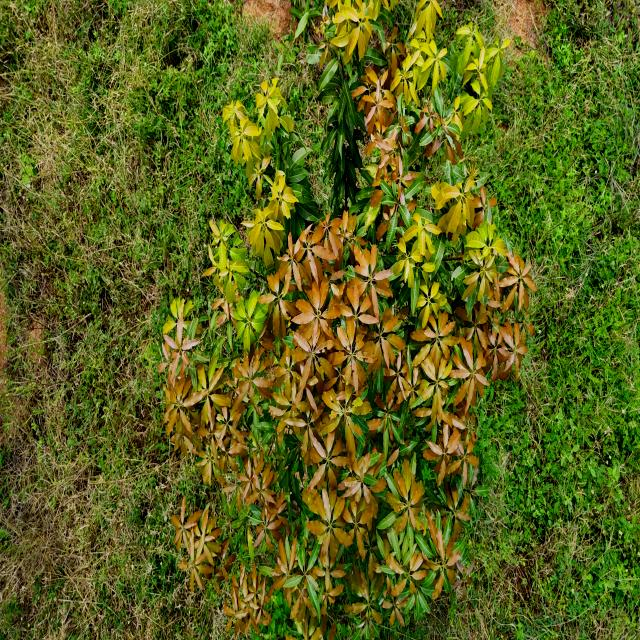mangoTree: (157, 0, 538, 640)
